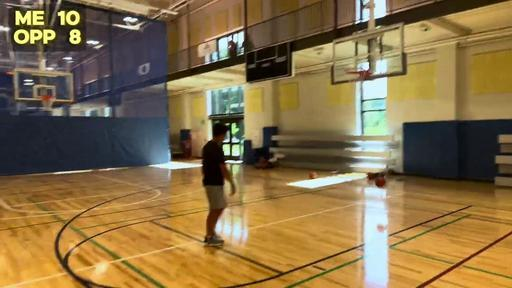ball: (374, 176, 386, 187), (310, 171, 318, 178)
human: (201, 124, 236, 246), (346, 71, 370, 87)
rim: (42, 96, 54, 110)
